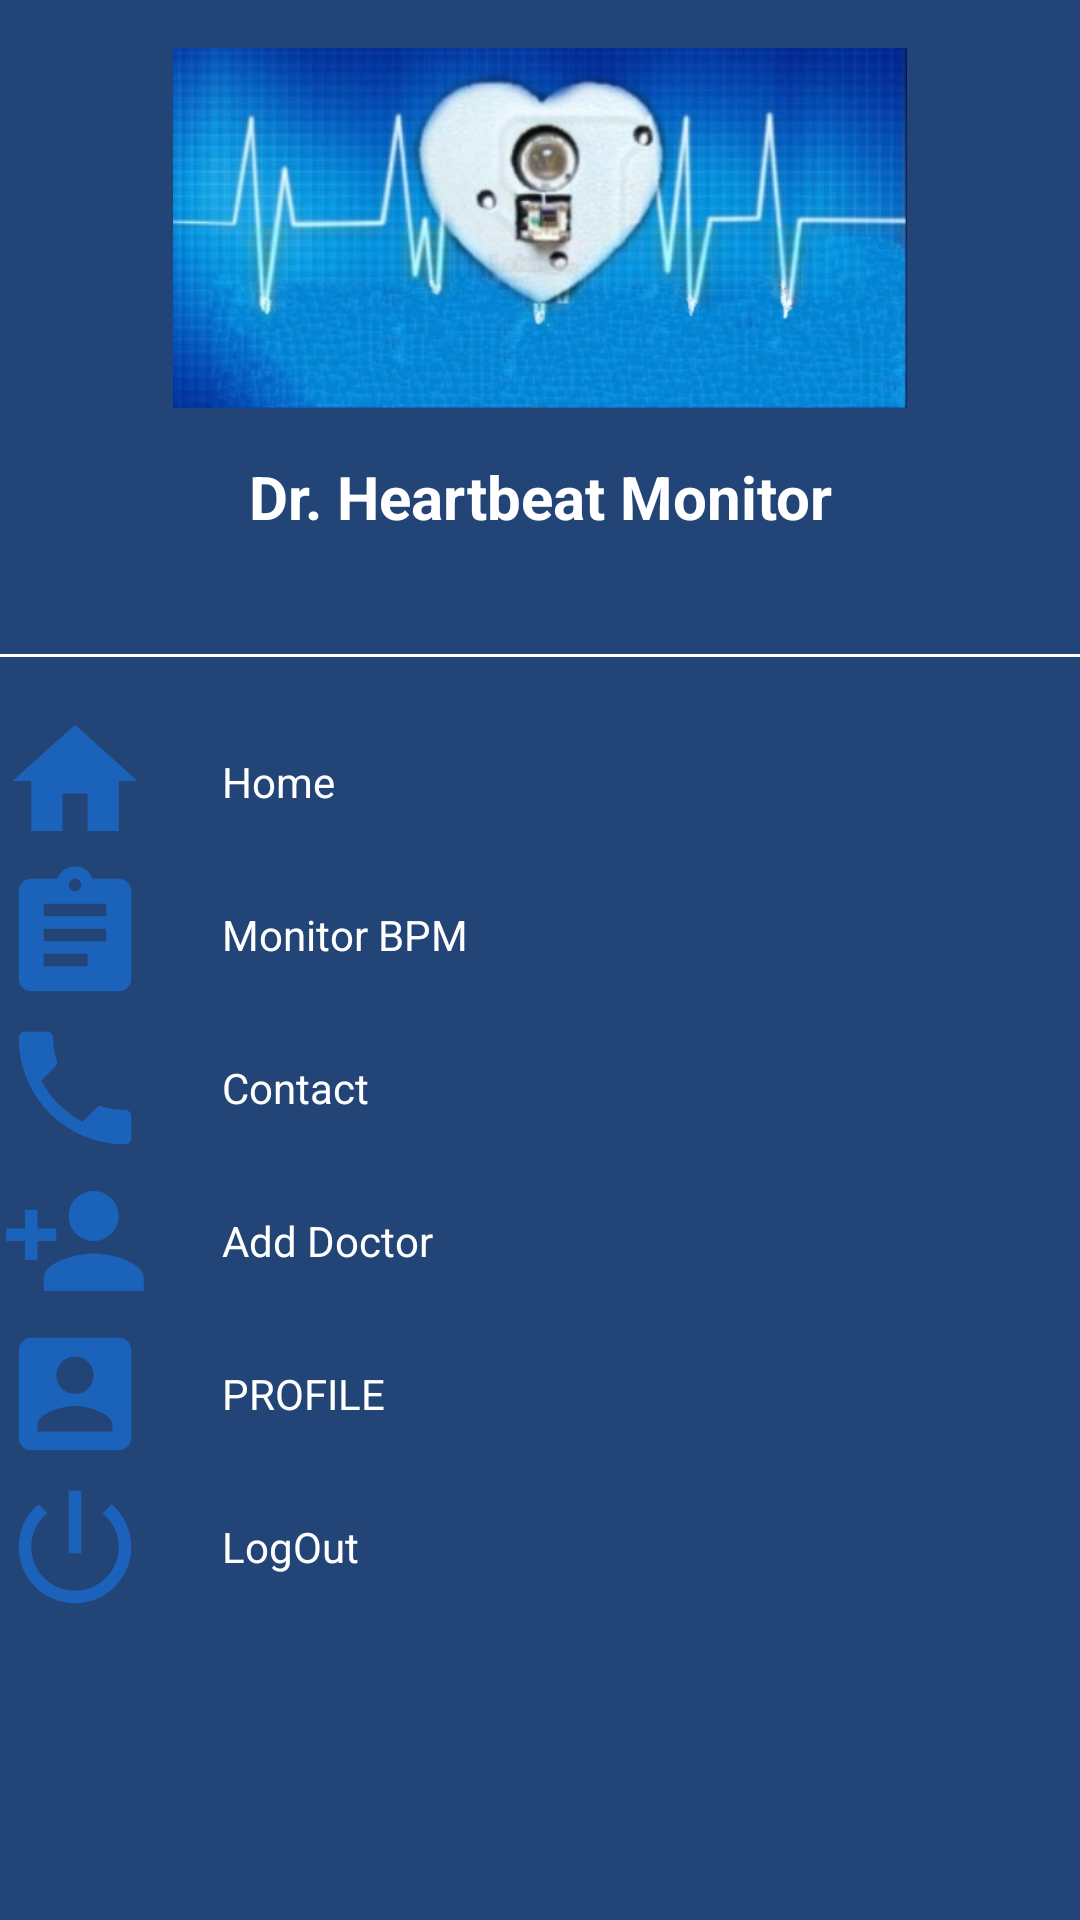

Screen size 1080w x 1920h. Icon name, then its center in pixels as point (x, y):
person add: point (75, 1241)
report: point (75, 928)
